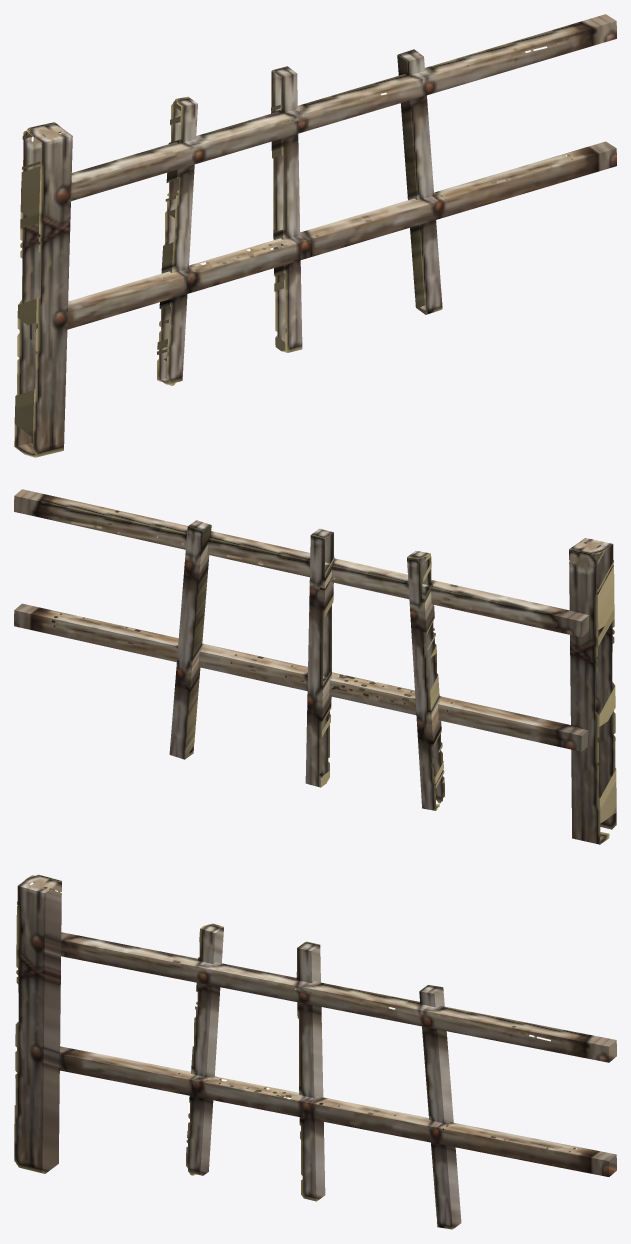
File: fence_01.glb
3 renders of one model, top to bottom at view 1: azimuth 30°, elevation 25°; view 2: azimuth 150°, elevation 25°; view 3: azimuth 330°, elevation 25°, orthographic. The views are drawn at different scales.
Visible parts, largest first — view 1: fence_01_game; view 2: fence_01_game; view 3: fence_01_game.
Part boxes in pixels (x1=…): fence_01_game: x1=14, y1=14, x2=616, y2=457; fence_01_game: x1=14, y1=489, x2=616, y2=844; fence_01_game: x1=14, y1=874, x2=616, y2=1229.
Size of the model in its own units: 2.56 by 1.25 by 0.3661.
Materials: 1 (1 with a texture image).
